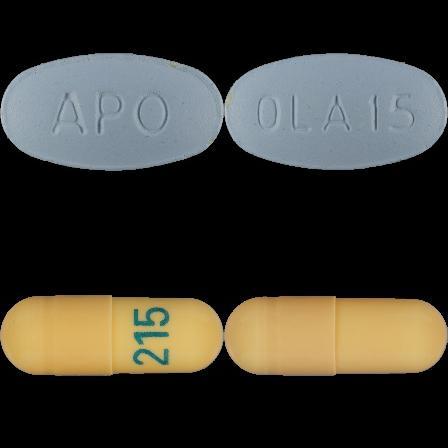61786-690: (0, 0, 224, 224)
